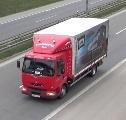truck: (16, 15, 109, 98)
